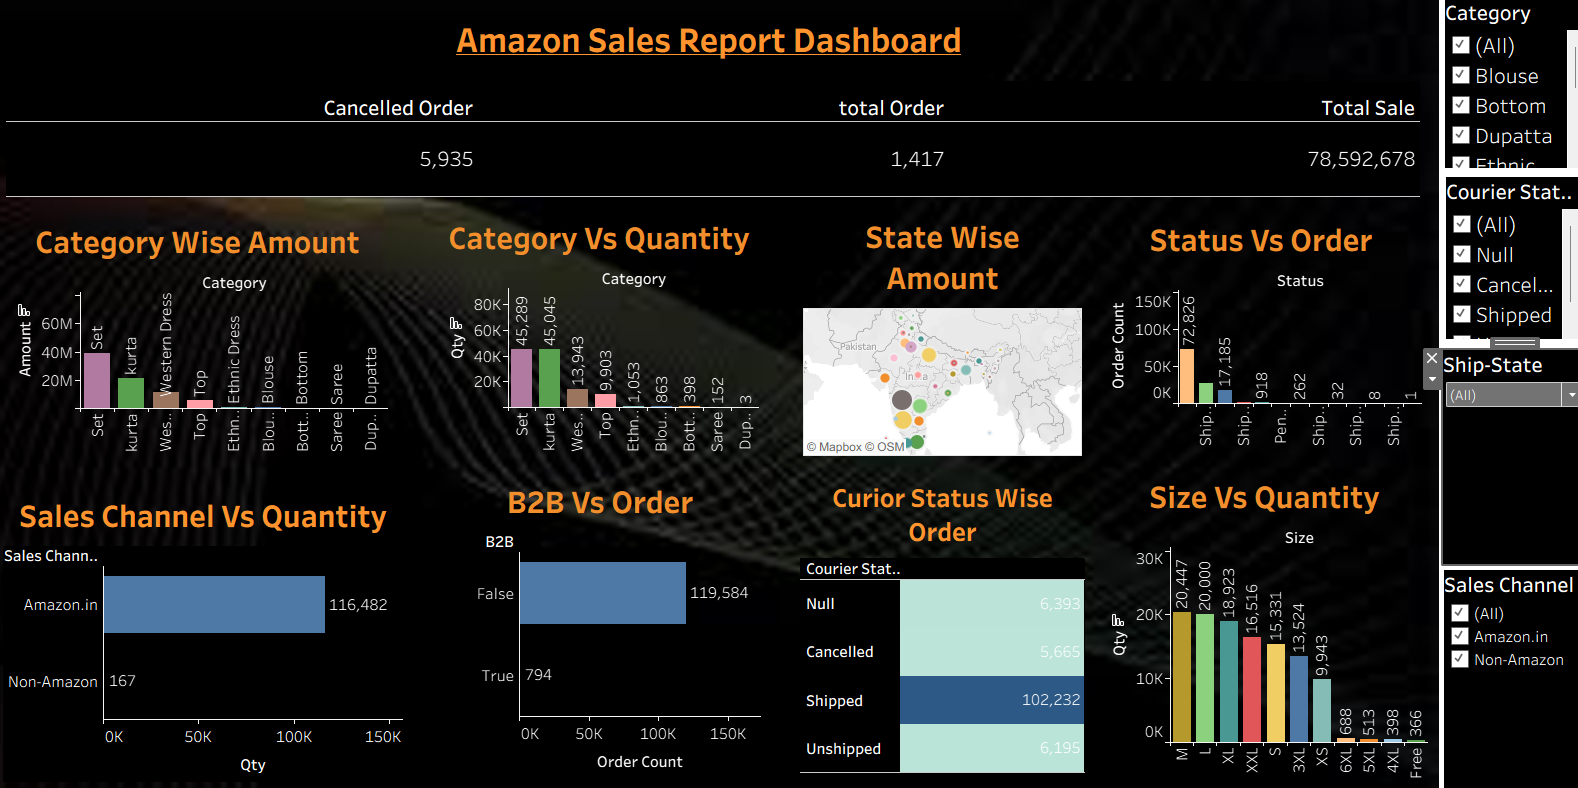

The page's visual inventory and layout, read from the dashboard file:
{"tool":"tableau","page":{"name":"Amazon Sales Report Dashboard","canvas":[1000,1000],"units":"permille","ordinal":0},"visuals":[{"type":"filter","title":"Category Wise Amount","param":"[federated.1j5tbxv0jbtrdb1dsvuy41m2024x].[none:Category:nk]","box":[907.1,59.9,83.9,199.8]},{"type":"text","box":[36.2,70.5,853.4,74]},{"type":"worksheet","title":"KPI","mark":"Automatic","box":[38.6,157.5,853.4,136.3]},{"type":"filter","title":"Curior Status Wise  Order","param":"[federated.1j5tbxv0jbtrdb1dsvuy41m2024x].[none:Courier Status:nk]","box":[907.7,270.3,80.3,190.4]},{"type":"worksheet","title":"State Wise Amount","mark":"Automatic","box":[519.6,310.2,168.4,287.9]},{"type":"worksheet","title":"Category Vs Quantity","mark":"Automatic","rows":["Qty"],"cols":["Category"],"box":[299.9,311.4,193.1,284.4]},{"type":"worksheet","title":"Status Vs Order","mark":"Automatic","rows":["Calculation_0637229324877824"],"cols":["Status"],"box":[698.9,313.8,194.3,275]},{"type":"worksheet","title":"Category Wise Amount","mark":"Automatic","rows":["Amount"],"cols":["Category"],"box":[39.2,316.1,229.9,279.7]},{"type":"filter","title":"State Wise Amount","param":"[federated.1j5tbxv0jbtrdb1dsvuy41m2024x].[none:ship-state:nk]","box":[905.9,473.6,86.9,251.5]},{"type":"worksheet","title":"Size Vs Quantity","mark":"Automatic","rows":["Qty"],"cols":["Size"],"box":[699.5,615.8,197.3,365.4]},{"type":"worksheet","title":"B2B Vs Order","mark":"Automatic","rows":["B2B"],"cols":["Calculation_0637229324877824"],"box":[299.9,621.6,194.3,356.1]},{"type":"worksheet","title":"Curior Status Wise  Order","mark":"Square","rows":["Courier Status"],"box":[517.8,621.6,172,349]},{"type":"worksheet","title":"Sales Channel Vs Quantity","mark":"Automatic","rows":["Sales Channel "],"cols":["Qty"],"box":[36.8,638.1,241.4,343.1]},{"type":"filter","title":"Sales Channel Vs Quantity","param":"[federated.1j5tbxv0jbtrdb1dsvuy41m2024x].[none:Sales Channel :nk]","box":[906.5,732.1,82.7,263.2]}]}

Visuals, with their boxes on the dashboard's canvas, which has no fixed pixel size, in thousandths of its width and height (x1, y1, x2, y2). These are canvas units, not pixel positions in the 1578x788 screenshot, which may show the page scaled, cropped or inside an application window:
"Category Wise Amount" filter: bbox=[907, 60, 991, 260]
text: bbox=[36, 70, 890, 144]
"KPI" worksheet: bbox=[39, 158, 892, 294]
"Curior Status Wise  Order" filter: bbox=[908, 270, 988, 461]
"State Wise Amount" worksheet: bbox=[520, 310, 688, 598]
"Category Vs Quantity" worksheet: bbox=[300, 311, 493, 596]
"Status Vs Order" worksheet: bbox=[699, 314, 893, 589]
"Category Wise Amount" worksheet: bbox=[39, 316, 269, 596]
"State Wise Amount" filter: bbox=[906, 474, 993, 725]
"Size Vs Quantity" worksheet: bbox=[700, 616, 897, 981]
"B2B Vs Order" worksheet: bbox=[300, 622, 494, 978]
"Curior Status Wise  Order" worksheet (Square marks): bbox=[518, 622, 690, 971]
"Sales Channel Vs Quantity" worksheet: bbox=[37, 638, 278, 981]
"Sales Channel Vs Quantity" filter: bbox=[906, 732, 989, 995]
